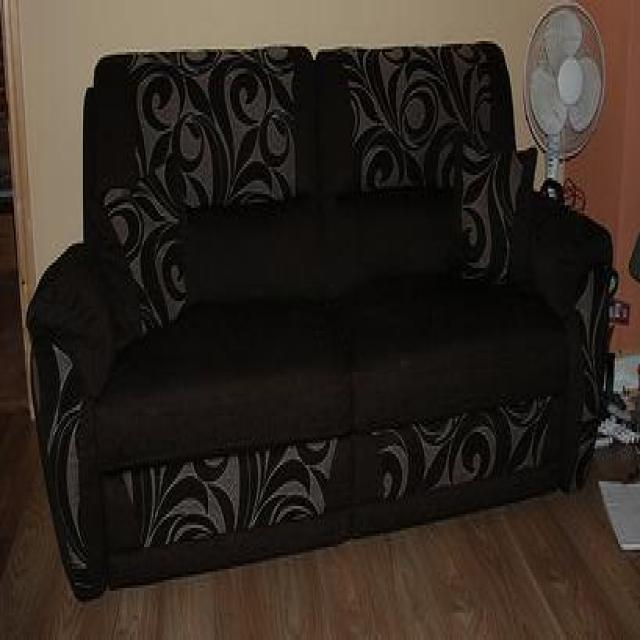sofa: (25, 40, 612, 602)
